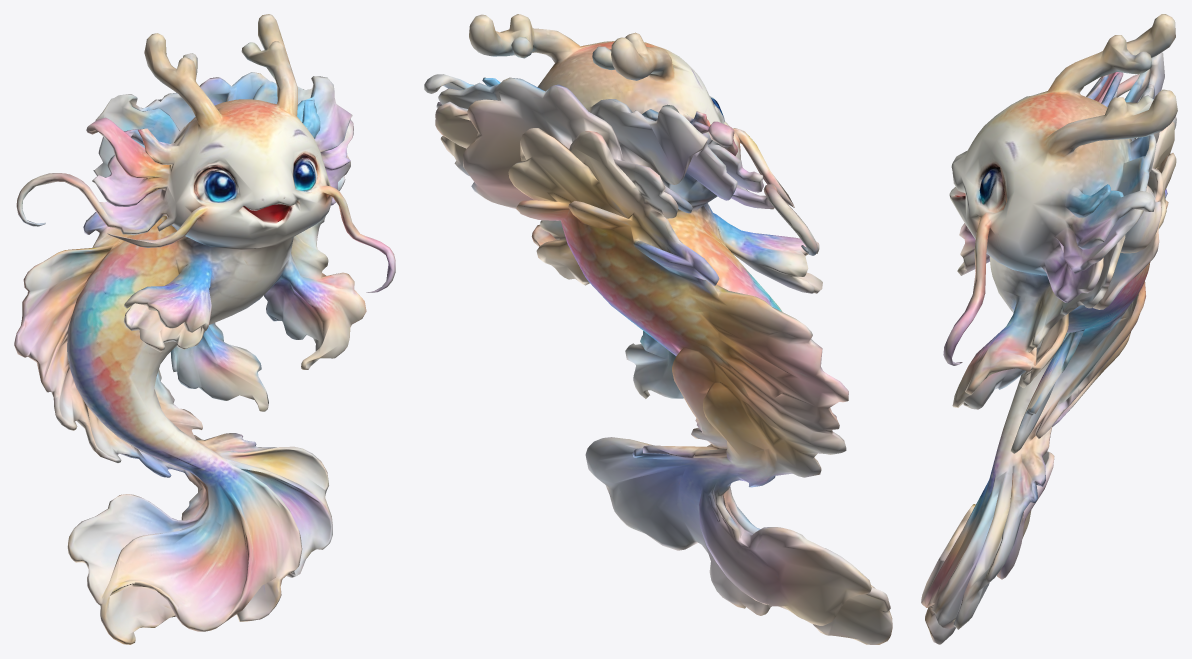
File: dragonkoi.glb
3 renders of one model, left to right at view 1: azimuth 30°, elevation 25°; view 2: azimuth 150°, elevation 25°; view 3: azimuth 270°, elevation 25°, orthographic. The views are drawn at different scales.
Parts seen in each view (by area): view 1: node_0; view 2: node_0; view 3: node_0.
Part boxes in pixels (<box>): node_0: <box>14,14,395,644</box>; node_0: <box>424,14,892,644</box>; node_0: <box>921,14,1177,644</box>.
Bounding box in the file's own units: 0.6691 × 1 × 0.3722.
1 material, 1 textured.
